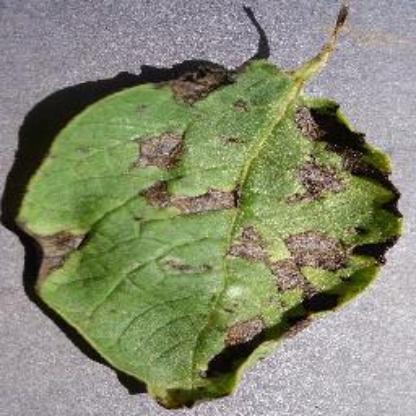Early-Blight: (13, 19, 406, 406)
